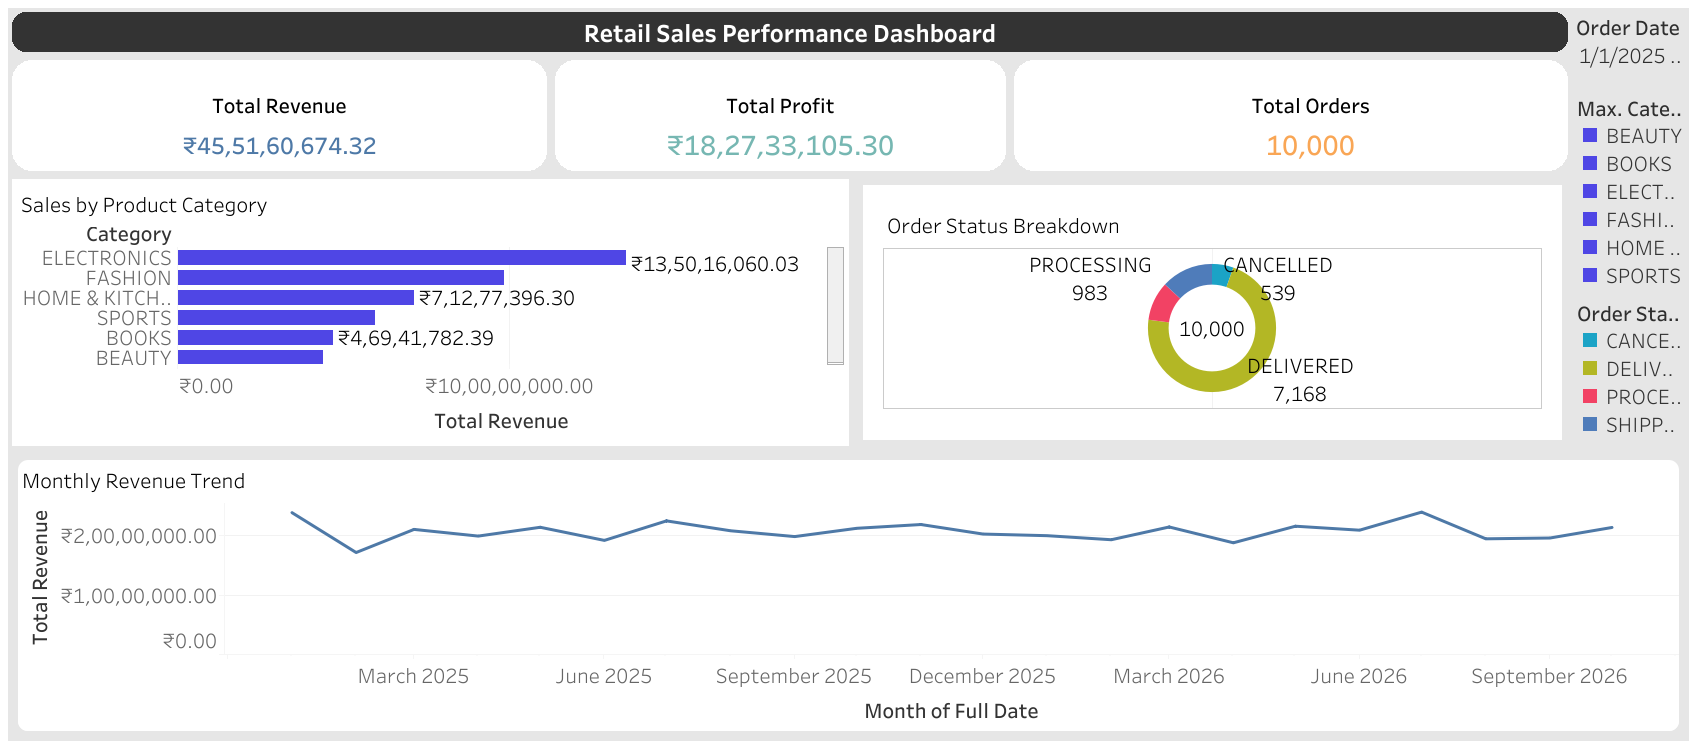

Layout of this report page (visuals, bound fields, positions):
{"tool":"tableau","page":{"name":"Retail Sales Performance Dashboard","canvas":[1000,1000],"units":"permille","ordinal":2},"visuals":[{"type":"title","box":[4.7,10.7,921.6,64.1]},{"type":"filter","title":"Monthly Revenue Trend","param":"[federated.1kgvdnr07l52z6157av7f0u1w0k7].[none:693e06d3-6990-3892-90cf-7a0bf8ee7","box":[926.3,10.7,69,106.8]},{"type":"worksheet","title":"Total Revenue","mark":"Text","box":[4.7,74.8,320,159.2]},{"type":"worksheet","title":"Total Profit","mark":"Text","box":[324.7,74.8,270.4,159.2]},{"type":"worksheet","title":"Total Orders","mark":"Text","box":[595.1,74.8,331.2,159.2]},{"type":"legend","title":"Sales by Product Category","param":"[federated.1kgvdnr07l52z6157av7f0u1w0k7].[max:5f6b3c30-7d75-3ec4-9aee-50a3a8b0e5","box":[926.3,117.5,69,273.7]},{"type":"worksheet","title":"Sales by Product Category","mark":"Bar","rows":["5f6b3c30-7d75-3ec4-9aee-50a3a8b0e5ac"],"cols":["79e36dd4-86e1-33fb-a918-3a7aafbece1a"],"box":[4.7,234,497.9,366.4]},{"type":"worksheet","title":"Order Status Breakdown","mark":"Pie","cols":["Calculation_0013677101396016","Calculation_0013677101396016"],"box":[502.6,234,423.7,366.4]},{"type":"legend","title":"Order Status Breakdown","param":"[federated.1kgvdnr07l52z6157av7f0u1w0k7].[none:227b9fa5-4aed-33ce-9a5f-d9568800f","box":[926.3,391.2,69,198.9]},{"type":"worksheet","title":"Monthly Revenue Trend","mark":"Automatic","rows":["79e36dd4-86e1-33fb-a918-3a7aafbece1a"],"cols":["79ab4e96-6289-3e08-a1be-538b3a226529"],"box":[4.7,600.4,990.6,388.9]}]}

Visuals, with their boxes on the dashboard's canvas, which has no fixed pixel size, in thousandths of its width and height (x1, y1, x2, y2). These are canvas units, not pixel positions in the 1697x749 screenshot, which may show the page scaled, cropped or inside an application window:
title: Rect(5, 11, 926, 75)
"Monthly Revenue Trend" filter: Rect(926, 11, 995, 118)
"Total Revenue" worksheet (Text marks): Rect(5, 75, 325, 234)
"Total Profit" worksheet (Text marks): Rect(325, 75, 595, 234)
"Total Orders" worksheet (Text marks): Rect(595, 75, 926, 234)
"Sales by Product Category" legend: Rect(926, 118, 995, 391)
"Sales by Product Category" worksheet (Bar marks): Rect(5, 234, 503, 600)
"Order Status Breakdown" worksheet (Pie marks): Rect(503, 234, 926, 600)
"Order Status Breakdown" legend: Rect(926, 391, 995, 590)
"Monthly Revenue Trend" worksheet: Rect(5, 600, 995, 989)
